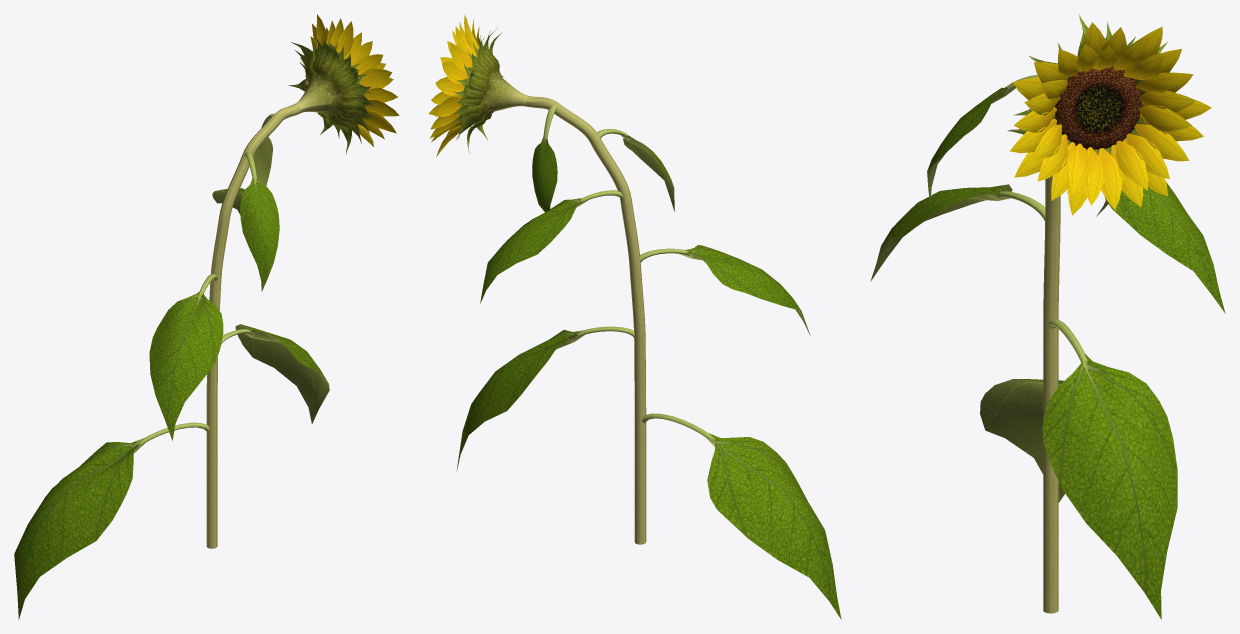
Rendered from flower3.fbx.
The picture shows the model from 3 angles, left to right: view 1: azimuth 30°, elevation 25°; view 2: azimuth 150°, elevation 25°; view 3: azimuth 270°, elevation 25°; orthographic projection. The views are drawn at different scales.
Parts seen in each view (by area): view 1: flower3:object; view 2: flower3:object; view 3: flower3:object.
Boxes of the visible parts, <box> form: flower3:object: <box>14,14,399,619</box>; flower3:object: <box>429,14,841,619</box>; flower3:object: <box>870,14,1225,619</box>.
Size of the model in its own units: 2.35 by 3.07 by 1.34.
